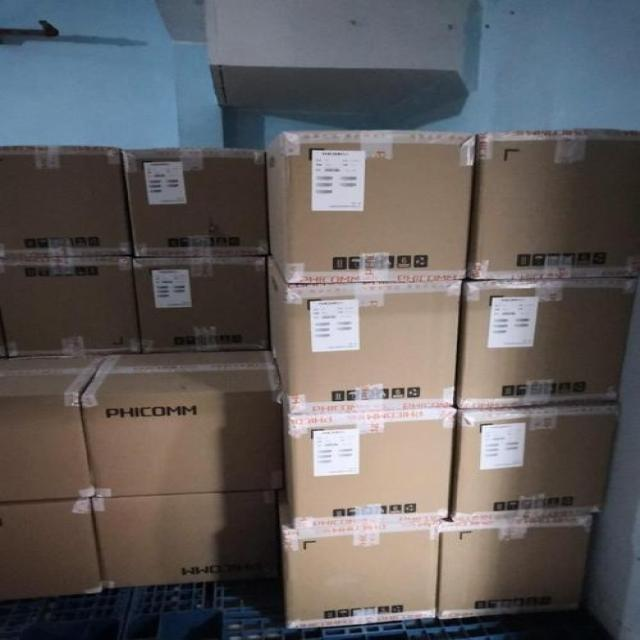Carton: (0, 132, 468, 411), (77, 348, 279, 591), (289, 513, 593, 627), (470, 133, 639, 276), (460, 282, 632, 404), (457, 405, 614, 516), (0, 147, 134, 253), (0, 349, 111, 394)
